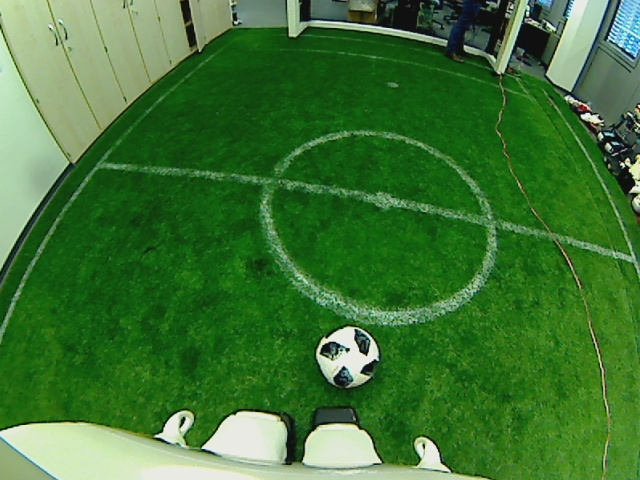ball: (314, 322, 383, 392)
